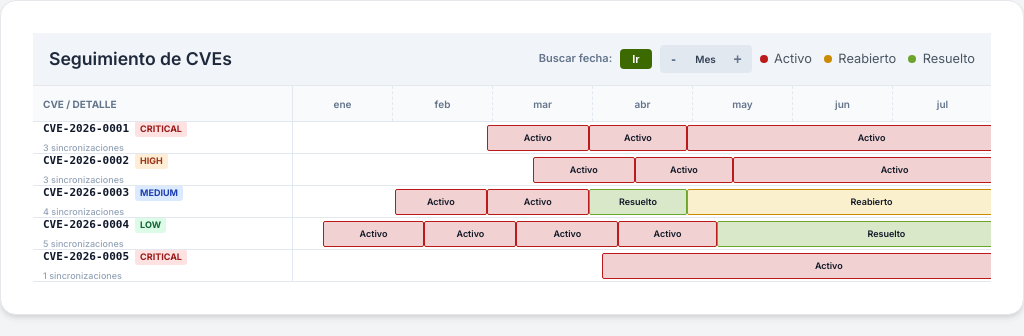
Test: GanttTab.vue › zoom controls › changes time labels when zooming
Click the button with class "zoom-btn" showing "-". click: (674, 59)
box: 662,47 -> 686,71
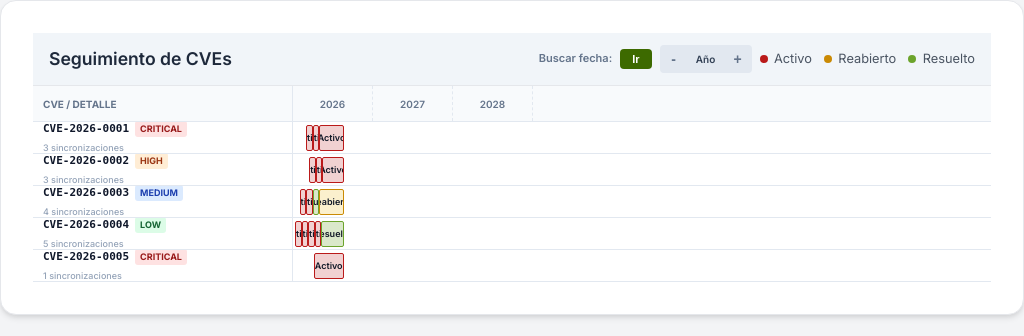
Check: the text with class "month-label" reads "2026", box 320,98 -> 345,110
